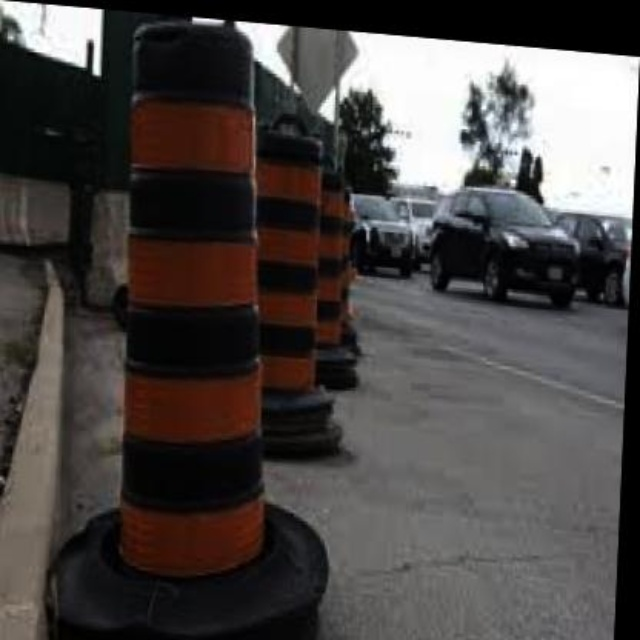obstacle: (103, 16, 303, 577)
